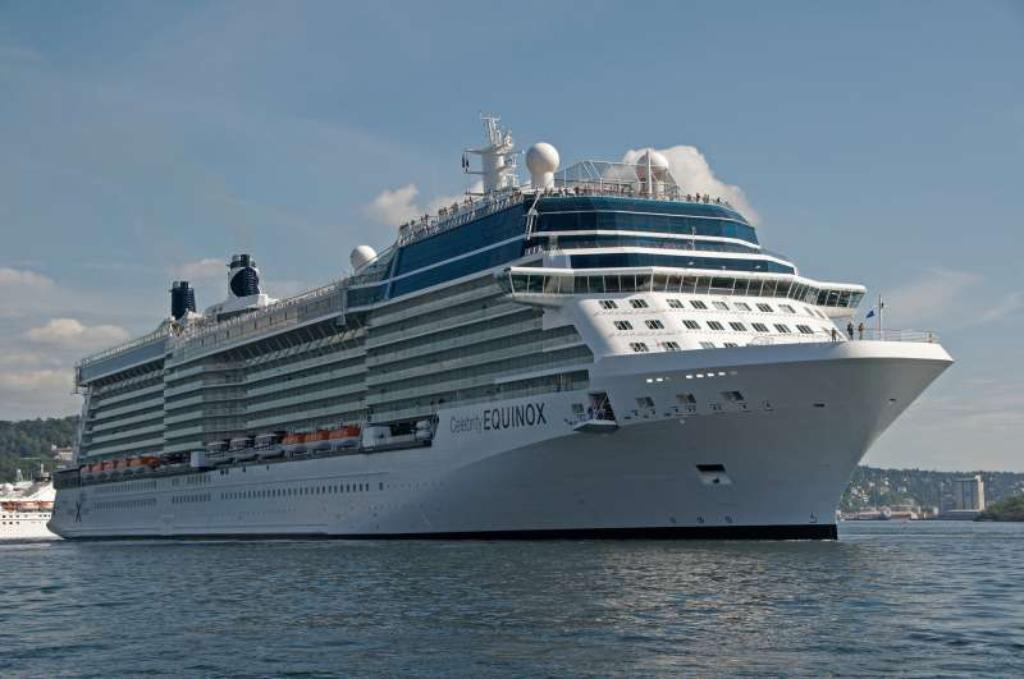PassengerShip: (39, 130, 955, 546)
